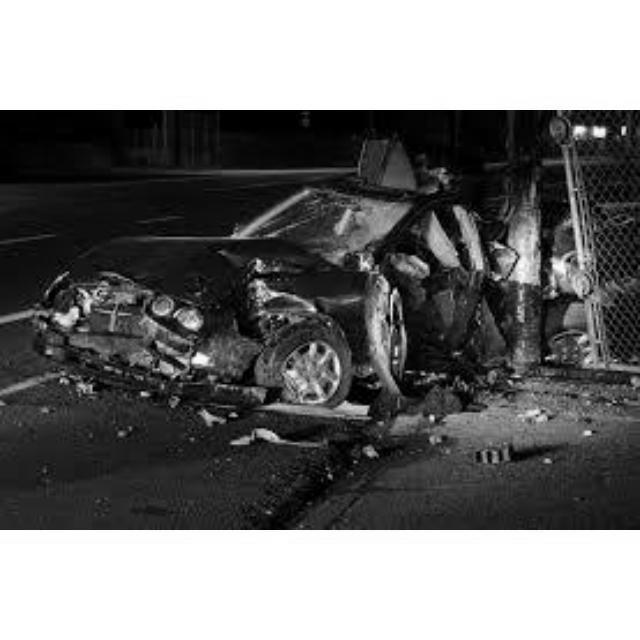Front-windscreen-damage: (255, 180, 398, 251)
bonnet-dent: (106, 239, 270, 299)
front-bumper-dent: (77, 295, 174, 375)
